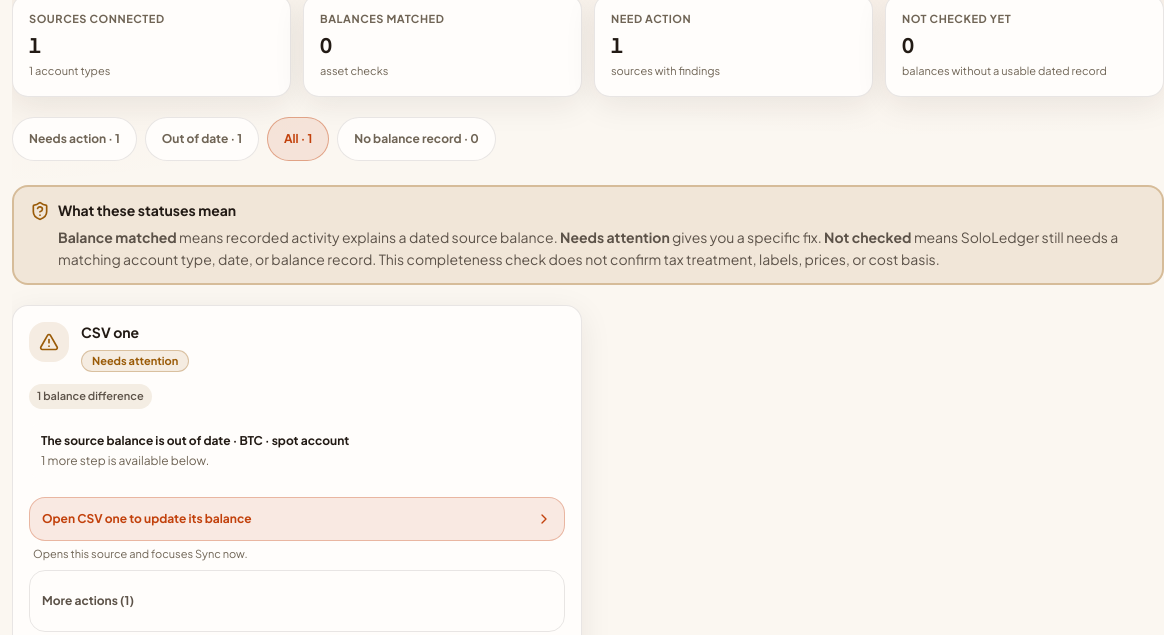
Test: DataHealthWorkspace › describes Sync and passive asset destinations exactly
Expected: the text "Opens this source and focuses Sync now." is shown, [33,546,248,560]
Click the heading "More actions (1)" at (88, 601), box [42,593,134,608]
(page scrolled)
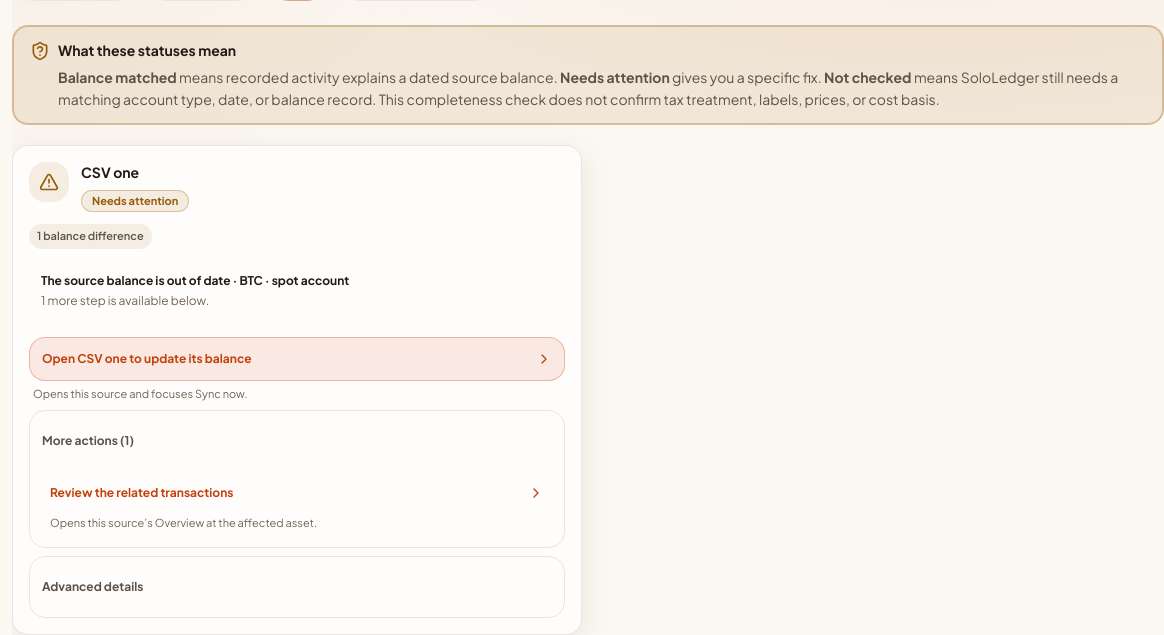
Expected: the text "Opens this source’s Overview at the affected asset." is shown, [50,516,317,529]
